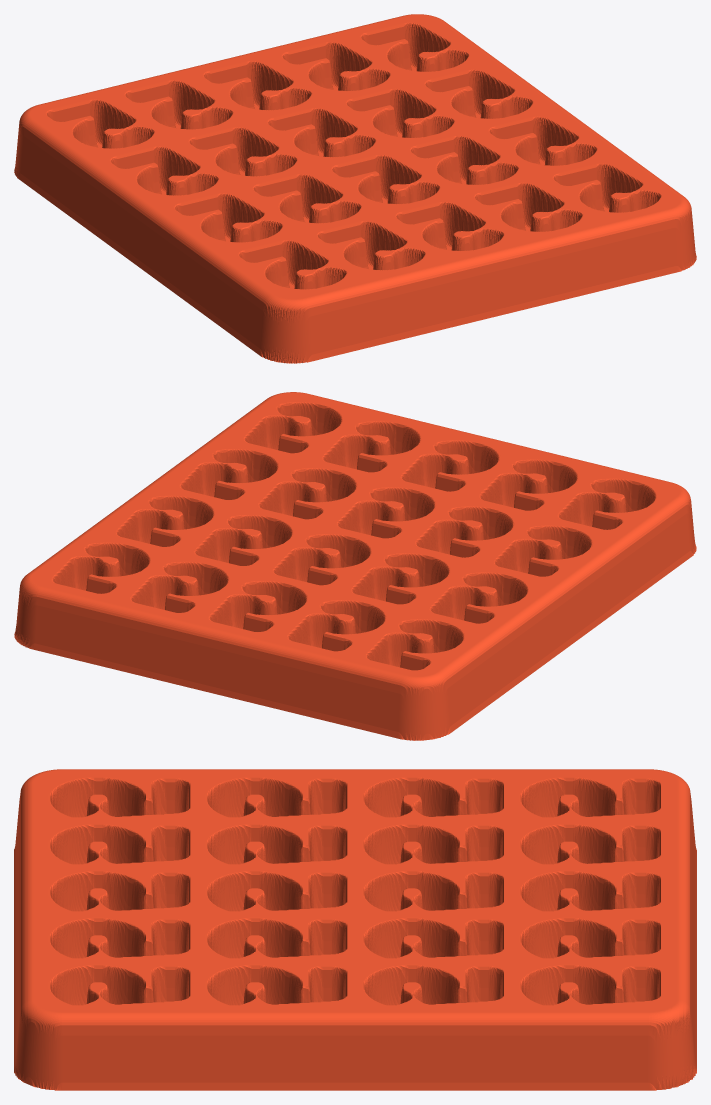
File: mold.glb
3 views of the same model, one above another, from view 1: azimuth 30°, elevation 25°; view 2: azimuth 150°, elevation 25°; view 3: azimuth 270°, elevation 25° (orthographic). The views are drawn at different scales.
Parts seen in each view (by area): view 1: geometry_0; view 2: geometry_0; view 3: geometry_0.
Boxes of the visible parts, bbox=[...] form: geometry_0: bbox=[14, 14, 696, 363]; geometry_0: bbox=[14, 392, 696, 740]; geometry_0: bbox=[14, 769, 696, 1090].
Size of the model in its own units: 0.1143 by 0.0145 by 0.1278.
